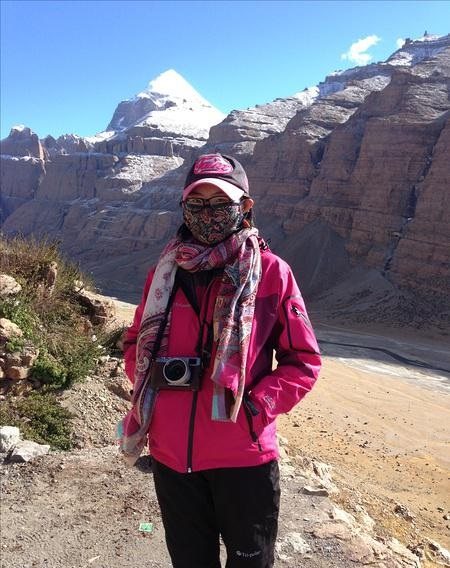face_mask: (188, 178, 236, 245)
